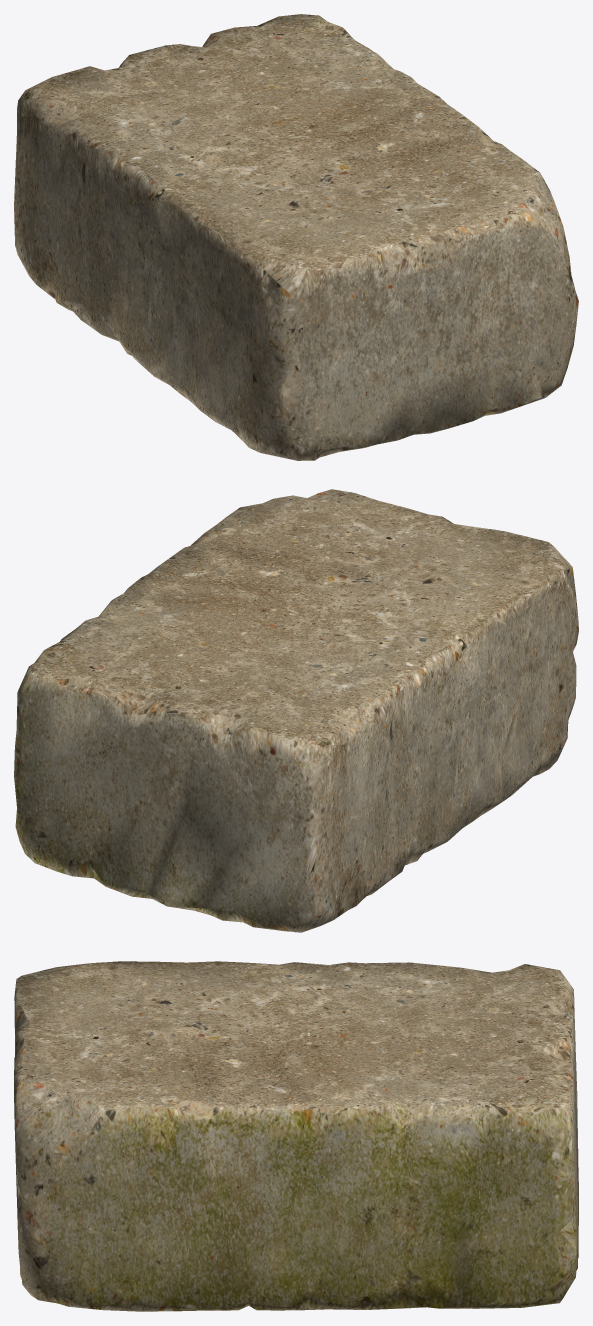
Rendered from brick.glb.
3 renders of one model, top to bottom at view 1: azimuth 30°, elevation 25°; view 2: azimuth 150°, elevation 25°; view 3: azimuth 270°, elevation 25°, orthographic. The views are drawn at different scales.
Parts seen in each view (by area): view 1: Object_2; view 2: Object_2; view 3: Object_2.
Part boxes in pixels (x1=…): Object_2: x1=14, y1=14, x2=578, y2=460; Object_2: x1=14, y1=489, x2=578, y2=932; Object_2: x1=14, y1=961, x2=578, y2=1311.
Bounding box in the file's own units: 1.44 × 0.8928 × 2.2.
1 material, 1 textured.
